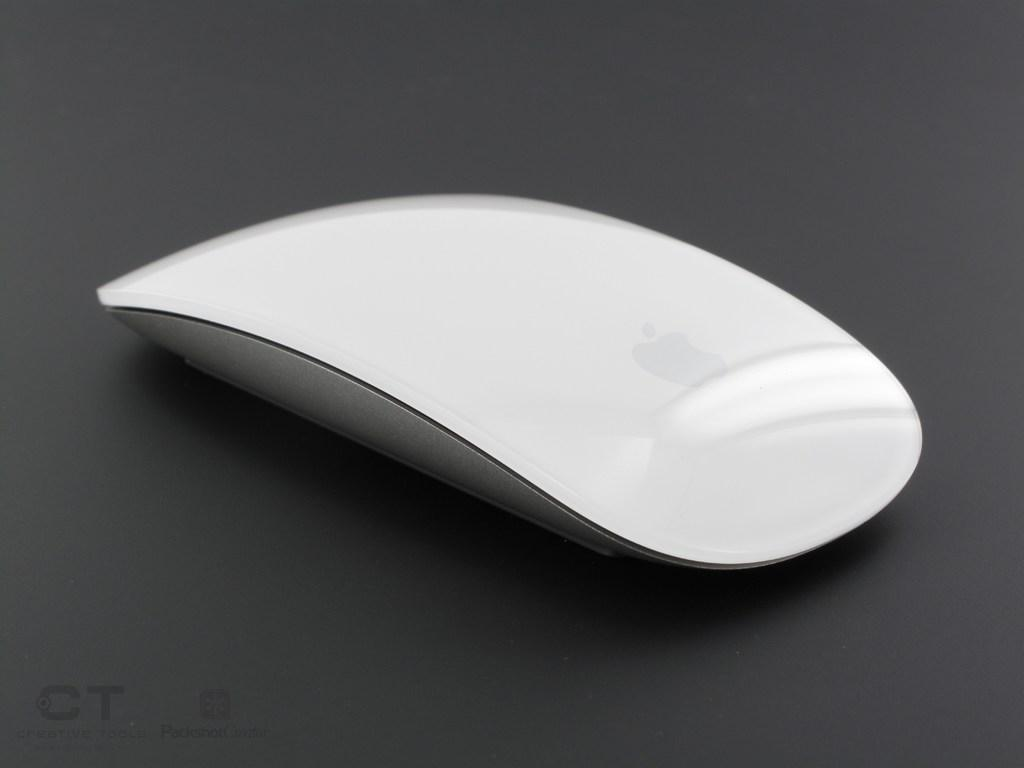Computer-mouse: (93, 182, 924, 570)
